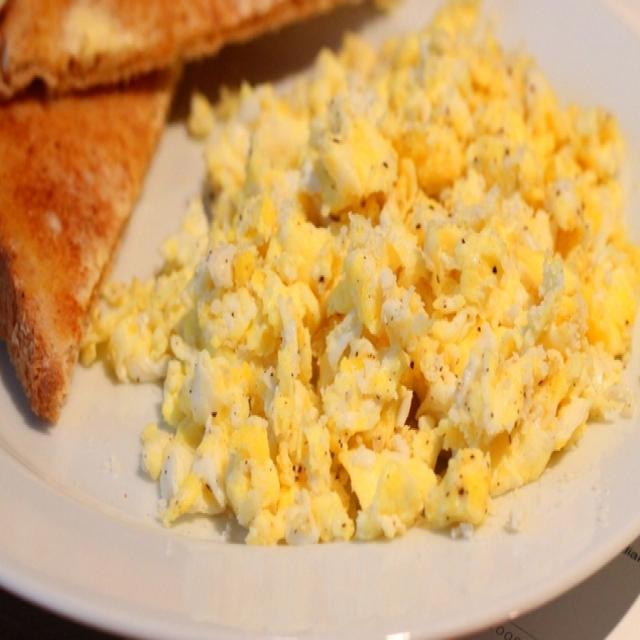鸡蛋料理: (55, 15, 630, 578)
